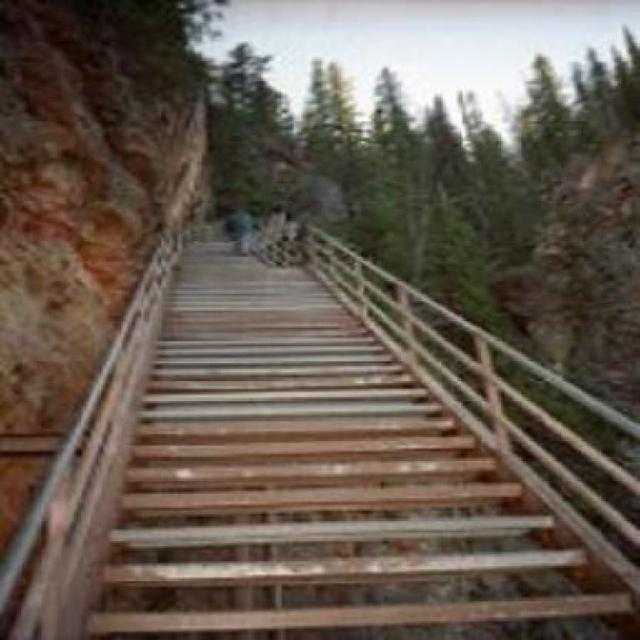stair: (74, 246, 640, 640)
